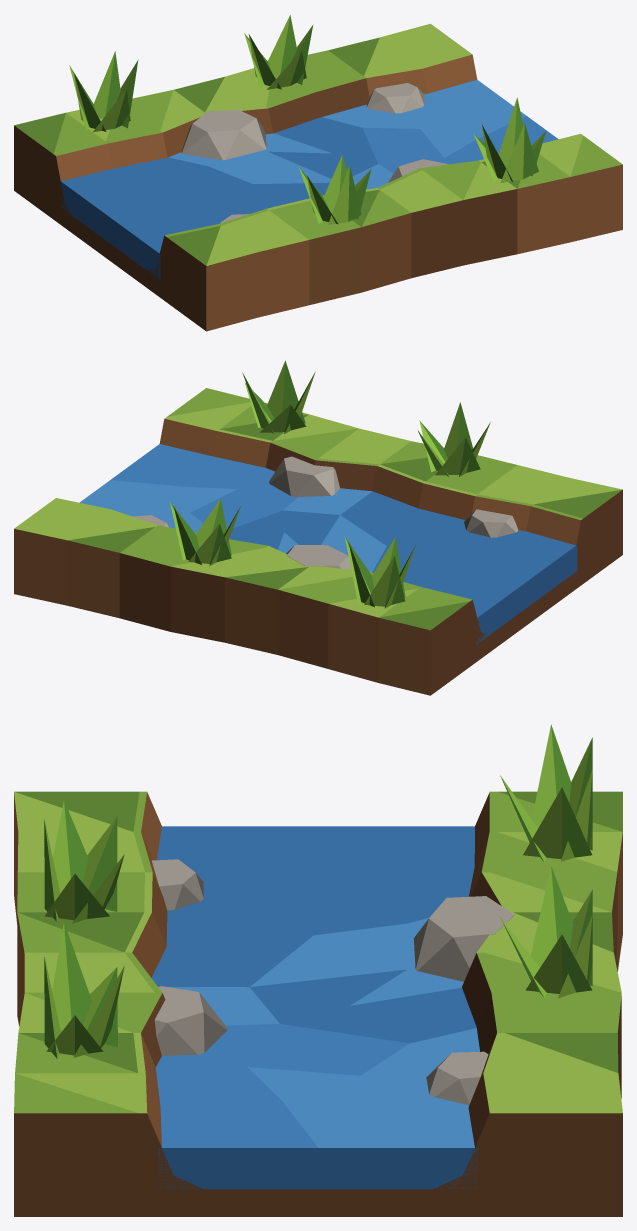
File: FMS_Water_Stream_Straight.fbx
3 renders of one model, top to bottom at view 1: azimuth 30°, elevation 25°; view 2: azimuth 150°, elevation 25°; view 3: azimuth 270°, elevation 25°, orthographic. The views are drawn at different scales.
Parts seen in each view (by area): view 1: FMS_Water_Stream_Straight; view 2: FMS_Water_Stream_Straight; view 3: FMS_Water_Stream_Straight.
Part boxes in pixels (left/top/right/bottom): FMS_Water_Stream_Straight: left=14, top=15, right=622, bottom=331; FMS_Water_Stream_Straight: left=14, top=360, right=622, bottom=695; FMS_Water_Stream_Straight: left=14, top=724, right=622, bottom=1216.
Size of the model in its own units: 2 by 0.579 by 1.6.
